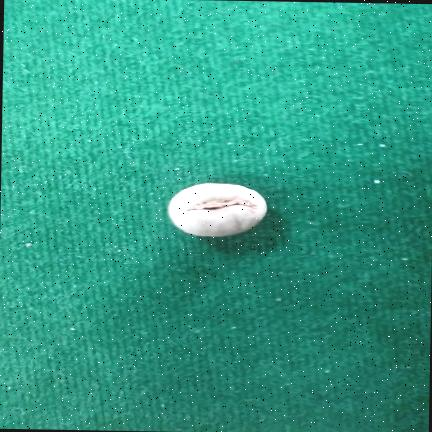immature: (167, 183, 267, 236)
